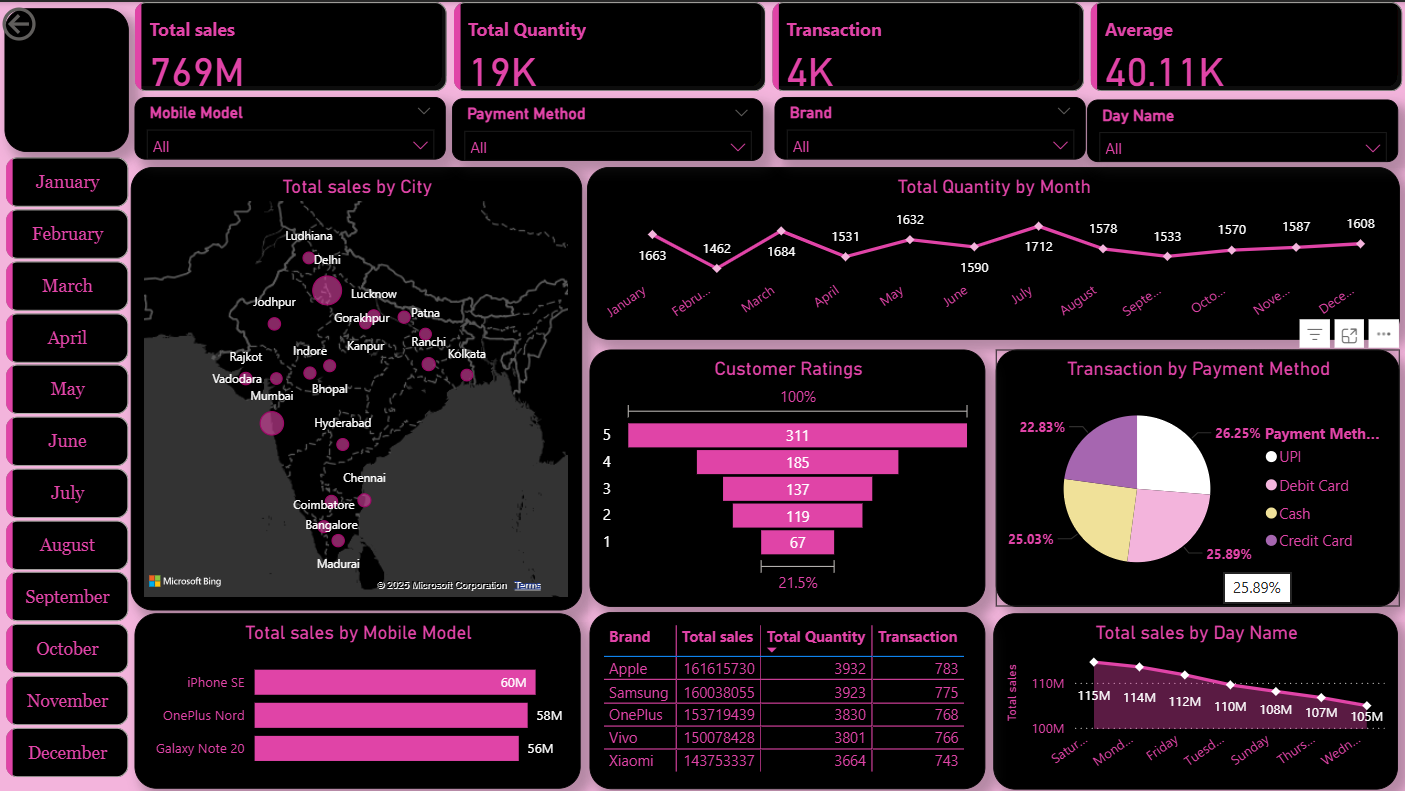

What the dashboard file says about the page in this screenshot:
{"tool":"powerbi","page":{"name":"Page 1","canvas":[1280,720],"ordinal":0},"visuals":[{"type":"shape","box":[7,5.8,112.8,130.2],"z":0},{"type":"advancedSlicerVisual","fields":{"Values":["Sheet1.Dates.Variation.Date Hierarchy.Month"]},"box":[3.4,136.1,121.4,578.5],"z":1000},{"type":"cardVisual","fields":{"Data":["Sales_Data.Total sales","Sales_Data.Total Quantity","Sales_Data.Transaction","Sales_Data.Average"]},"box":[119.8,0,1160.5,89.5],"z":2000},{"type":"map","fields":{"Category":["Sales_Data.City"],"Size":["Sales_Data.Total sales"]},"box":[120.9,150,409.3,402.3],"z":3000},{"type":"lineChart","fields":{"Category":["Sales_Data.Dates.Variation.Date Hierarchy.Month","Sales_Data.Dates.Variation.Date Hierarchy.Day"],"Y":["Sales_Data.Total Quantity"]},"box":[535.4,149.7,737.2,156.5],"z":4000},{"type":"clusteredBarChart","fields":{"Category":["Sales_Data.Mobile Model"],"Y":["Sales_Data.Total sales"]},"box":[124.4,554.7,404.7,159.3],"z":5000},{"type":"pieChart","fields":{"Y":["Sales_Data.Transaction"],"Category":["Sales_Data.Payment Method"]},"box":[906.2,315.3,366.4,233.6],"z":6000},{"type":"funnel","title":"Customer Ratings","fields":{"Y":["CountNonNull(Sales_Data.Customer Ratings)"],"Category":["Sales_Data.Customer Ratings"]},"box":[537.6,315.3,359.5,233.6],"z":7000},{"type":"stackedAreaChart","fields":{"Category":["Sales_Data.Day Name"],"Y":["Sales_Data.Total sales"]},"box":[904,554.6,367.5,159.9],"z":8000},{"type":"actionButton","box":[0,0,100,40],"z":9000},{"type":"tableEx","fields":{"Values":["Sales_Data.Brand","Sales_Data.Total sales","Sales_Data.Total Quantity","Sales_Data.Transaction"]},"box":[537.2,553.5,359.3,160.5],"z":10000},{"type":"slicer","fields":{"Values":["Sales_Data.Mobile Model"]},"box":[124.4,86,282.6,57],"z":11000},{"type":"slicer","fields":{"Values":["Sales_Data.Payment Method"]},"box":[412.8,87.2,282.6,57],"z":12000},{"type":"slicer","fields":{"Values":["Sales_Data.Brand"]},"box":[705.8,86,282.6,57],"z":13000},{"type":"slicer","fields":{"Values":["Sales_Data.Day Name"]},"box":[989.5,88.4,282.6,57],"z":14000}]}

Visuals, with their boxes in screenshot pixels (x1, y1, x2, y2), scaled from the page's 1280x720 canvas onto the 1405x791 screenshot:
shape: box(8, 6, 131, 149)
advancedSlicerVisual - Sheet1.Dates.Variation.Date Hierarchy.Month: box(4, 150, 137, 785)
cardVisual - Sales_Data.Total sales x Sales_Data.Total Quantity: box(131, 0, 1404, 98)
map - Sales_Data.City x Sales_Data.Total sales: box(133, 165, 582, 607)
lineChart - Sales_Data.Dates.Variation.Date Hierarchy.Month x Sales_Data.Dates.Variation.Date Hierarchy.Day: box(588, 164, 1397, 336)
clusteredBarChart - Sales_Data.Mobile Model x Sales_Data.Total sales: box(137, 609, 581, 784)
pieChart - Sales_Data.Transaction x Sales_Data.Payment Method: box(995, 346, 1397, 603)
"Customer Ratings" funnel: box(590, 346, 985, 603)
stackedAreaChart - Sales_Data.Day Name x Sales_Data.Total sales: box(992, 609, 1396, 785)
actionButton: box(0, 0, 110, 44)
tableEx - Sales_Data.Brand x Sales_Data.Total sales: box(590, 608, 984, 784)
slicer - Sales_Data.Mobile Model: box(137, 94, 447, 157)
slicer - Sales_Data.Payment Method: box(453, 96, 763, 158)
slicer - Sales_Data.Brand: box(775, 94, 1085, 157)
slicer - Sales_Data.Day Name: box(1086, 97, 1396, 160)
